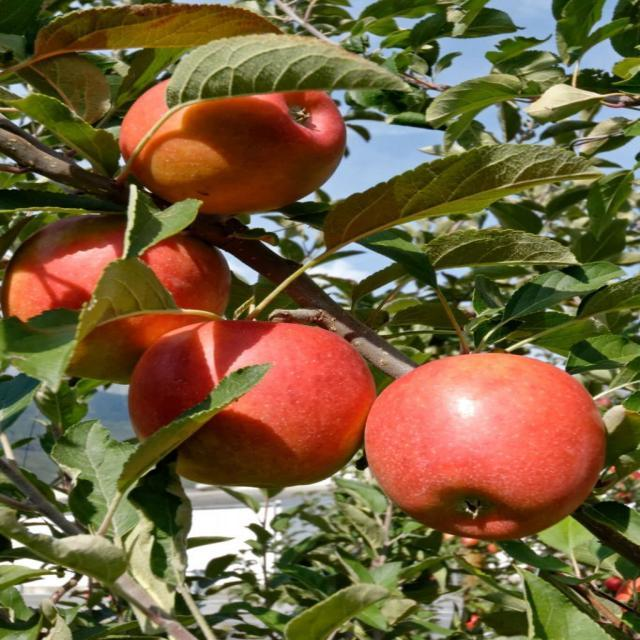Red Apple: (364, 343, 604, 541), (134, 319, 378, 487), (15, 212, 238, 368), (115, 66, 347, 214), (607, 576, 640, 617), (457, 614, 487, 640)
